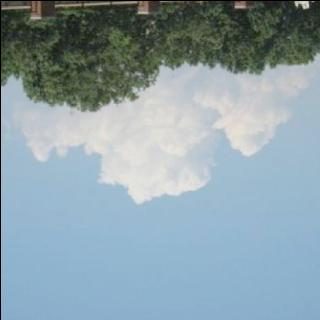Cumulus: (0, 72, 320, 206)
